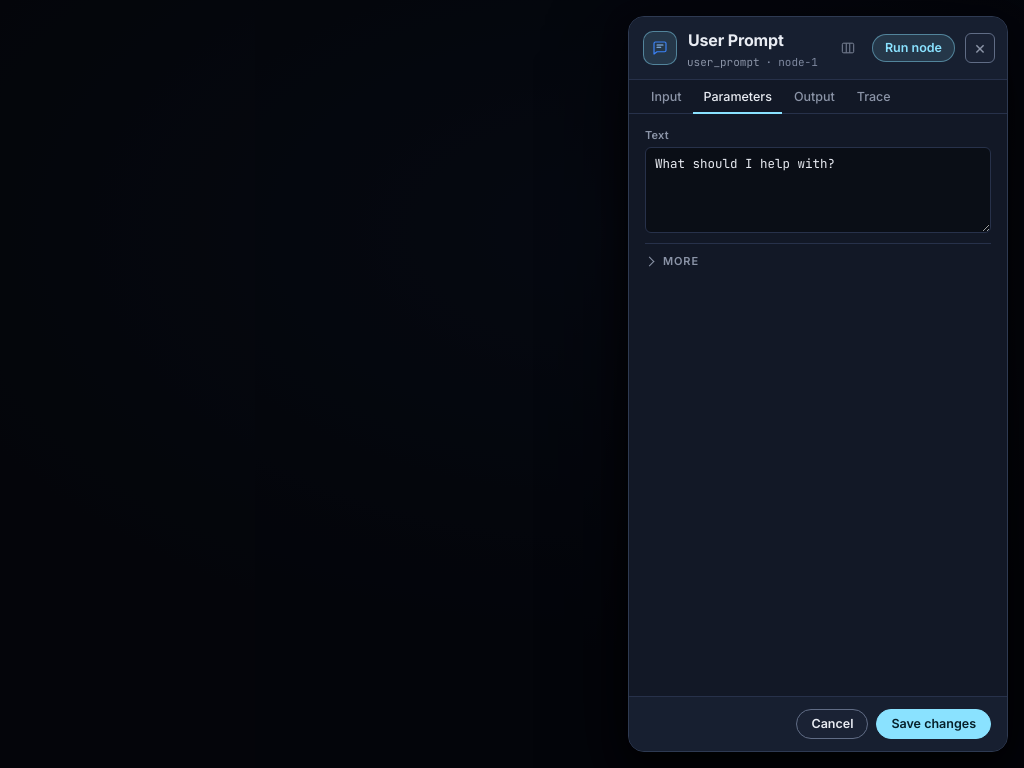
NodeInspector run data › labels pinned data as not from a run
This screenshot has width=1024, height=768.
Click the tab "Output" at (814, 97), box [784,80,845,114]
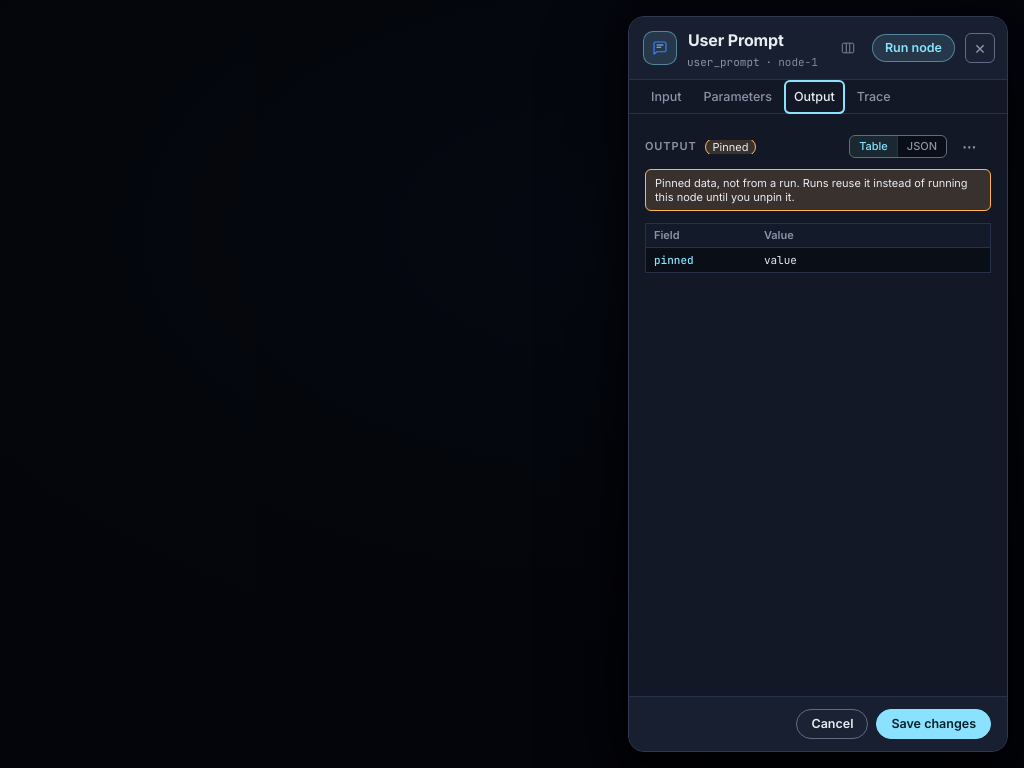
Now the text with test id "run-data-pinned" shows "Pinned data, not from a run", box [655,176,968,204]
Click the button named "Output options" at (969, 146), box [955,132,983,160]
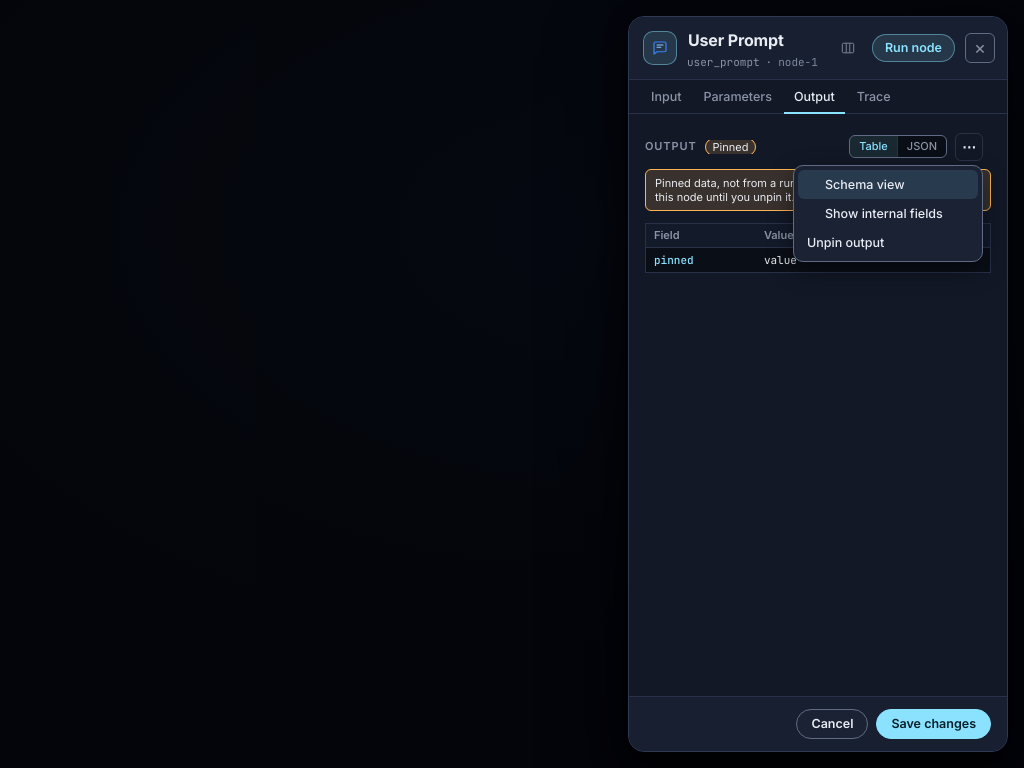
Now the menu item "Unpin output" is enabled, box [798,228,978,256]
